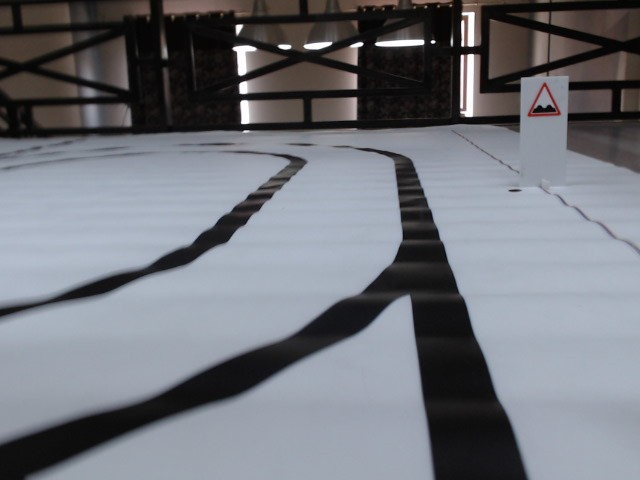Nerov: (526, 83, 563, 120)
